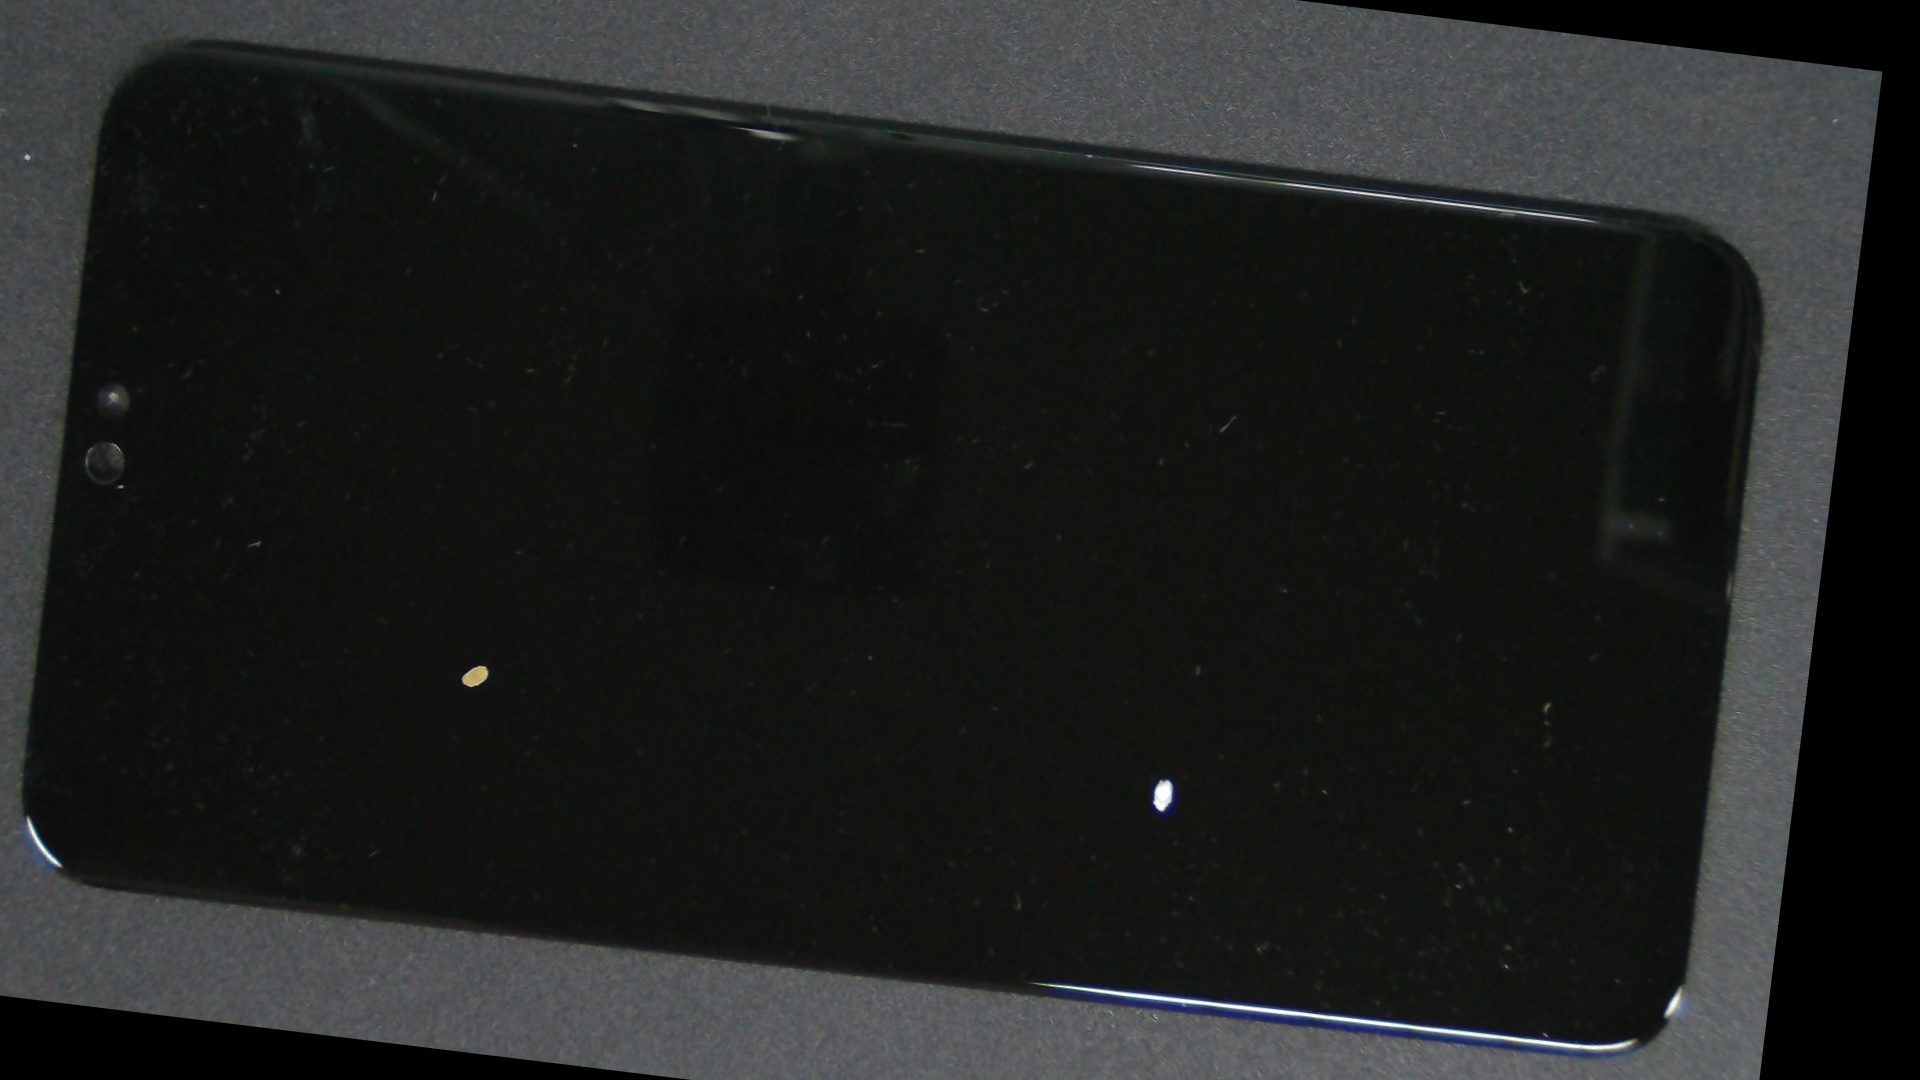oil: (501, 310, 1834, 1080), (156, 253, 806, 1075)
